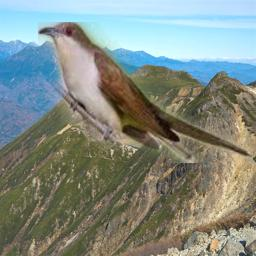Cuckoo: (38, 22, 253, 163)
